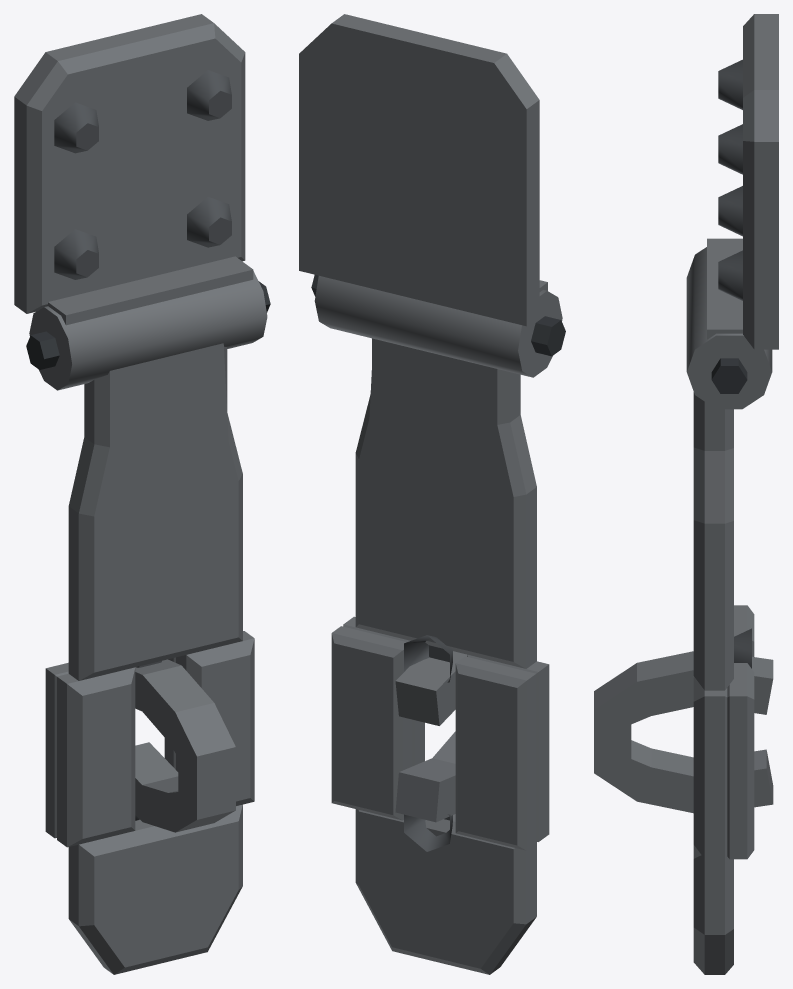
The model's file is SM_LPD_Door_DoorFittingHasp_01.fbx.
3 renders of one model, left to right at view 1: azimuth 30°, elevation 25°; view 2: azimuth 150°, elevation 25°; view 3: azimuth 270°, elevation 25°, orthographic. The views are drawn at different scales.
Parts seen in each view (by area): view 1: SM_LPD_Door_DoorFittingHasp_01; view 2: SM_LPD_Door_DoorFittingHasp_01; view 3: SM_LPD_Door_DoorFittingHasp_01.
Part boxes in pixels (bbox=[...]): SM_LPD_Door_DoorFittingHasp_01: bbox=[14, 14, 270, 974]; SM_LPD_Door_DoorFittingHasp_01: bbox=[299, 14, 565, 974]; SM_LPD_Door_DoorFittingHasp_01: bbox=[594, 14, 778, 974].
Bounding box in the file's own units: 0.116 × 0.442 × 0.0823.
